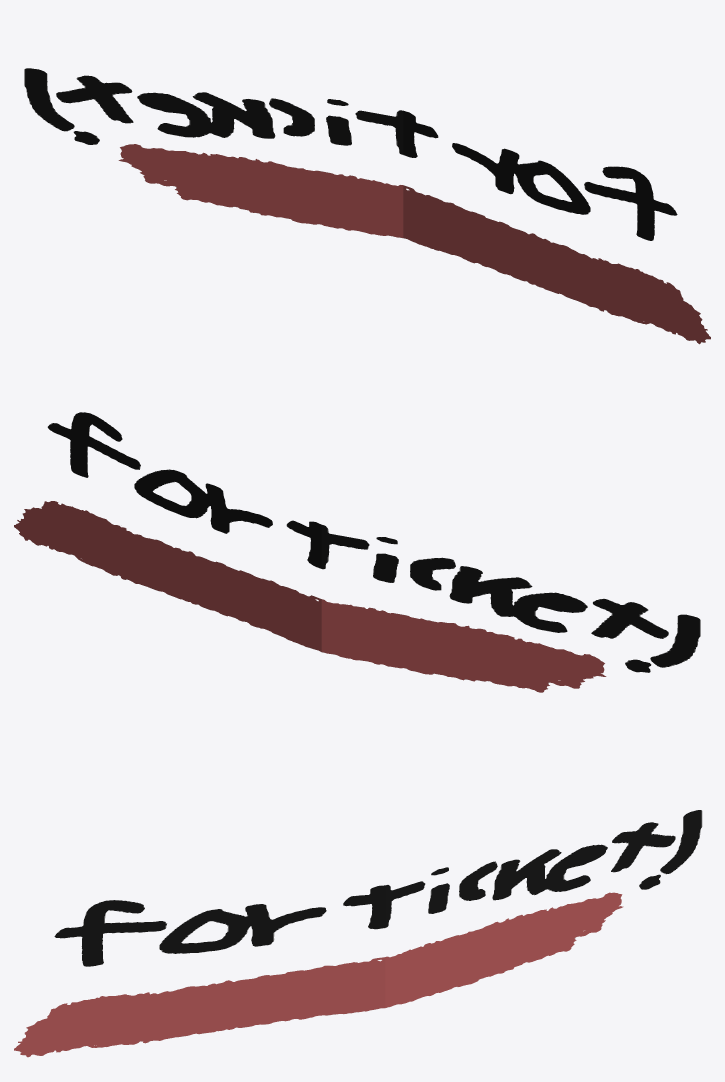
The model's file is jar line2.fbx.
The picture shows the model from 3 angles, top to bottom: view 1: azimuth 30°, elevation 25°; view 2: azimuth 210°, elevation 25°; view 3: azimuth 270°, elevation 25°; orthographic projection. The views are drawn at different scales.
Parts seen in each view (by area): view 1: Cylinder.002; view 2: Cylinder.002; view 3: Cylinder.002.
Part boxes in pixels (x1,y1,x2,y2): Cylinder.002: (24,68,710,344); Cylinder.002: (14,412,700,692); Cylinder.002: (14,810,702,1057).
Bounding box in the file's own units: 27.37 × 12.59 × 51.2.
